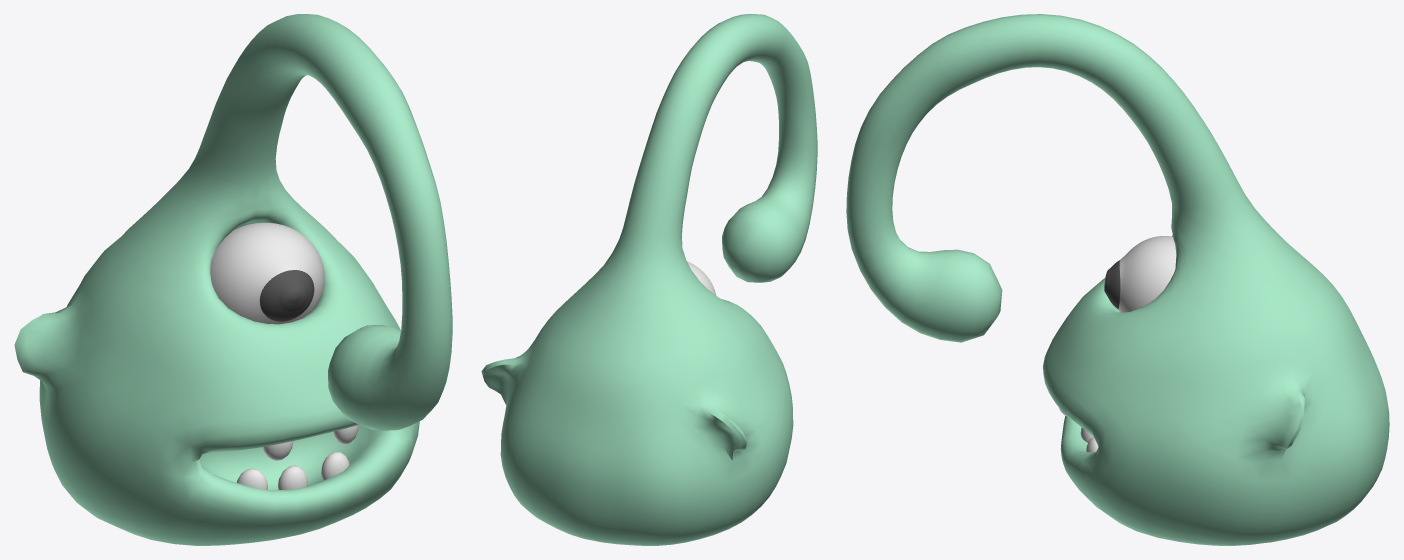
File: Slampadaire_Test_Web.glb
The picture shows the model from 3 angles, left to right: view 1: azimuth 30°, elevation 25°; view 2: azimuth 150°, elevation 25°; view 3: azimuth 270°, elevation 25°; orthographic projection. The views are drawn at different scales.
Parts seen in each view (by area): view 1: Slapadaire-Mat, Oeil-Mat.1, Slapadaire, Oeil-Mat.2; view 2: Slapadaire-Mat; view 3: Slapadaire-Mat, Oeil-Mat.1.
Part boxes in pixels (x1,y1,x2,y2): Slapadaire-Mat: (14, 14, 452, 545); Oeil-Mat.1: (210, 222, 324, 324); Slapadaire: (237, 425, 358, 489); Oeil-Mat.2: (259, 270, 314, 321); Slapadaire-Mat: (481, 14, 817, 545); Slapadaire-Mat: (846, 14, 1389, 545); Oeil-Mat.1: (1118, 236, 1176, 312).
Size of the model in its own units: 178 by 274 by 277.
